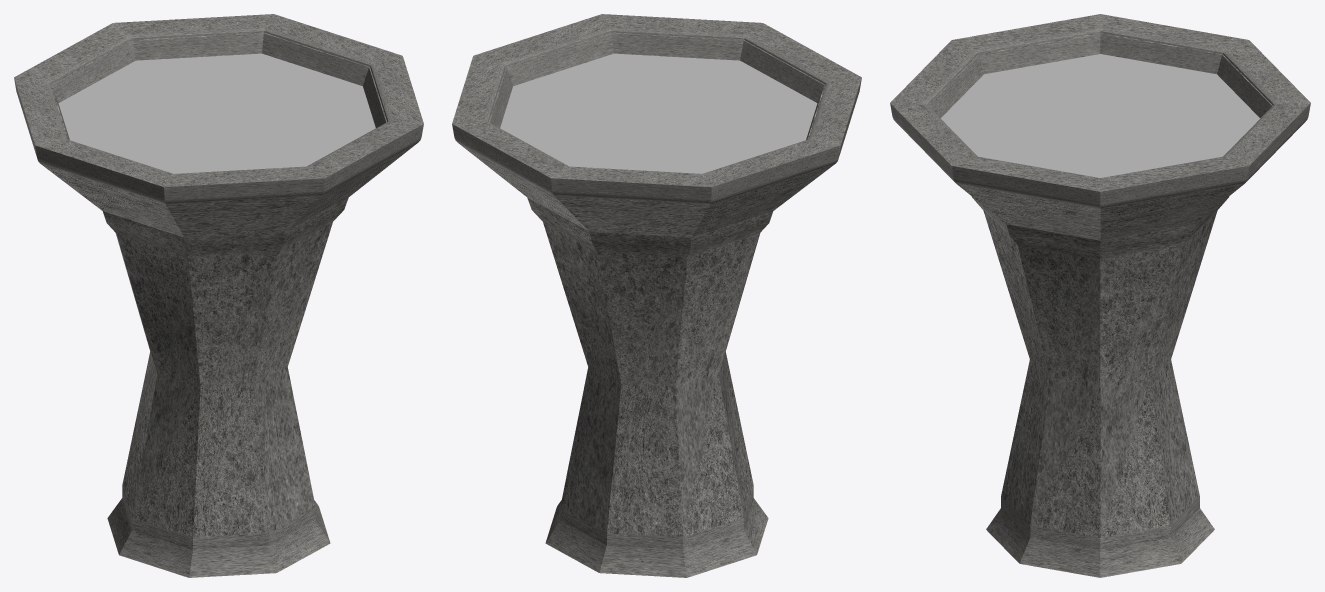
Rendered from fountain.fbx.
The picture shows the model from 3 angles, left to right: view 1: azimuth 30°, elevation 25°; view 2: azimuth 150°, elevation 25°; view 3: azimuth 270°, elevation 25°; orthographic projection.
Visible parts, largest first — view 1: pCylinder1; view 2: pCylinder1; view 3: pCylinder1.
Boxes of the visible parts, x1=… form: pCylinder1: x1=14, y1=14, x2=423, y2=577; pCylinder1: x1=452, y1=14, x2=861, y2=577; pCylinder1: x1=890, y1=14, x2=1310, y2=577.
Bounding box in the file's own units: 0.6972 × 0.7798 × 0.6972.
